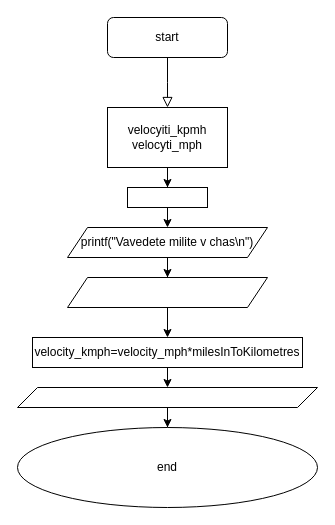
The diagram is 335 pixels wide and 525 high, and some of its shapes have lost their labels. Here are the shapes that lost their labels. From the top down, the centre of each, then its label:
(167,197): const=1609
(167,292): scanf("%f",&velocity_mph)
(167,397): printf("Kilomtrite v chas sa %.2f\n",velocity_kmph)
